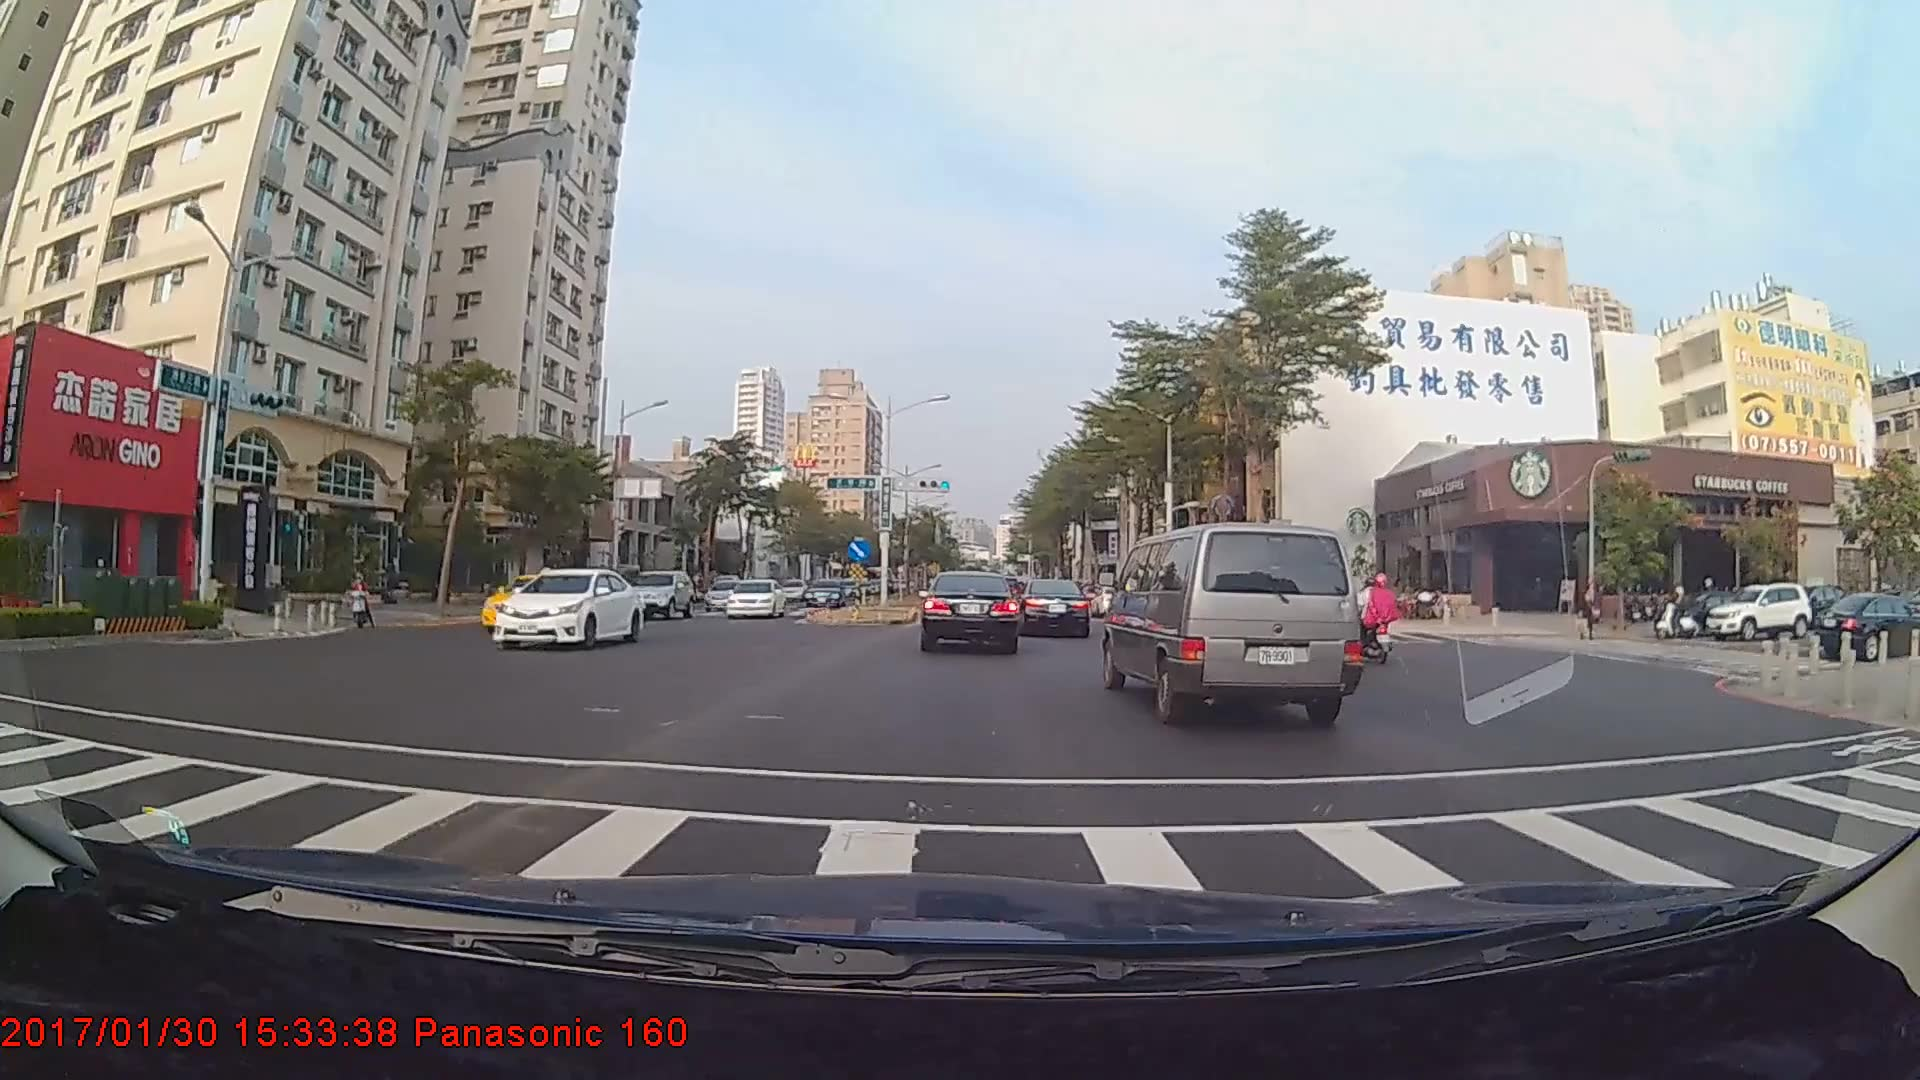pedestrian: (1576, 581, 1599, 646)
rider: (1654, 578, 1701, 641)
vehicle: (1104, 517, 1355, 725), (489, 568, 642, 650), (1760, 585, 1902, 655), (917, 569, 1021, 653), (478, 573, 588, 636), (1700, 584, 1814, 641), (1018, 578, 1091, 638), (624, 571, 693, 621), (724, 579, 785, 620), (804, 577, 847, 608)
